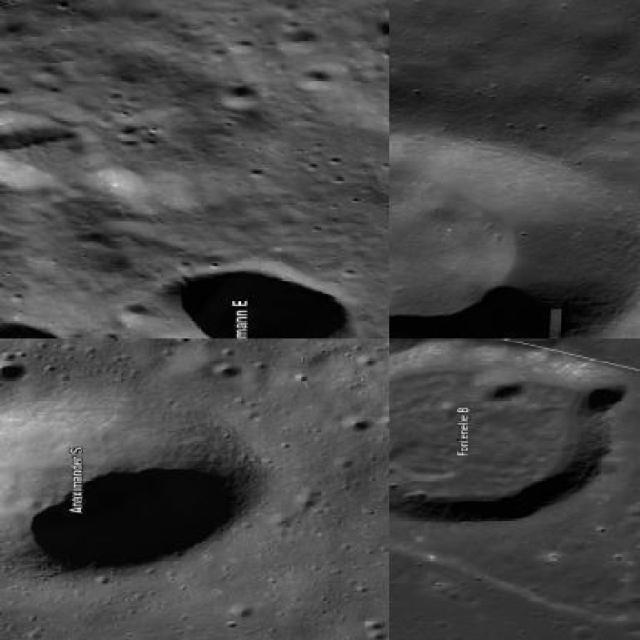crater: (390, 121, 638, 337), (0, 384, 258, 580), (389, 343, 606, 520), (126, 265, 359, 337), (582, 364, 628, 410), (0, 357, 28, 383)
